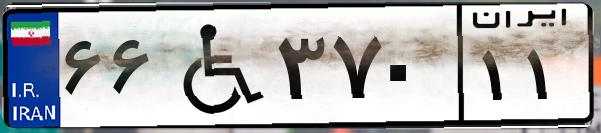0: (385, 28, 445, 110)
1: (475, 38, 525, 113), (525, 38, 570, 115)
3: (270, 28, 330, 110)
6: (57, 26, 110, 100), (110, 28, 158, 98)
7: (330, 28, 385, 110)
ژ (معلولین و جانبازان): (158, 12, 270, 120)
